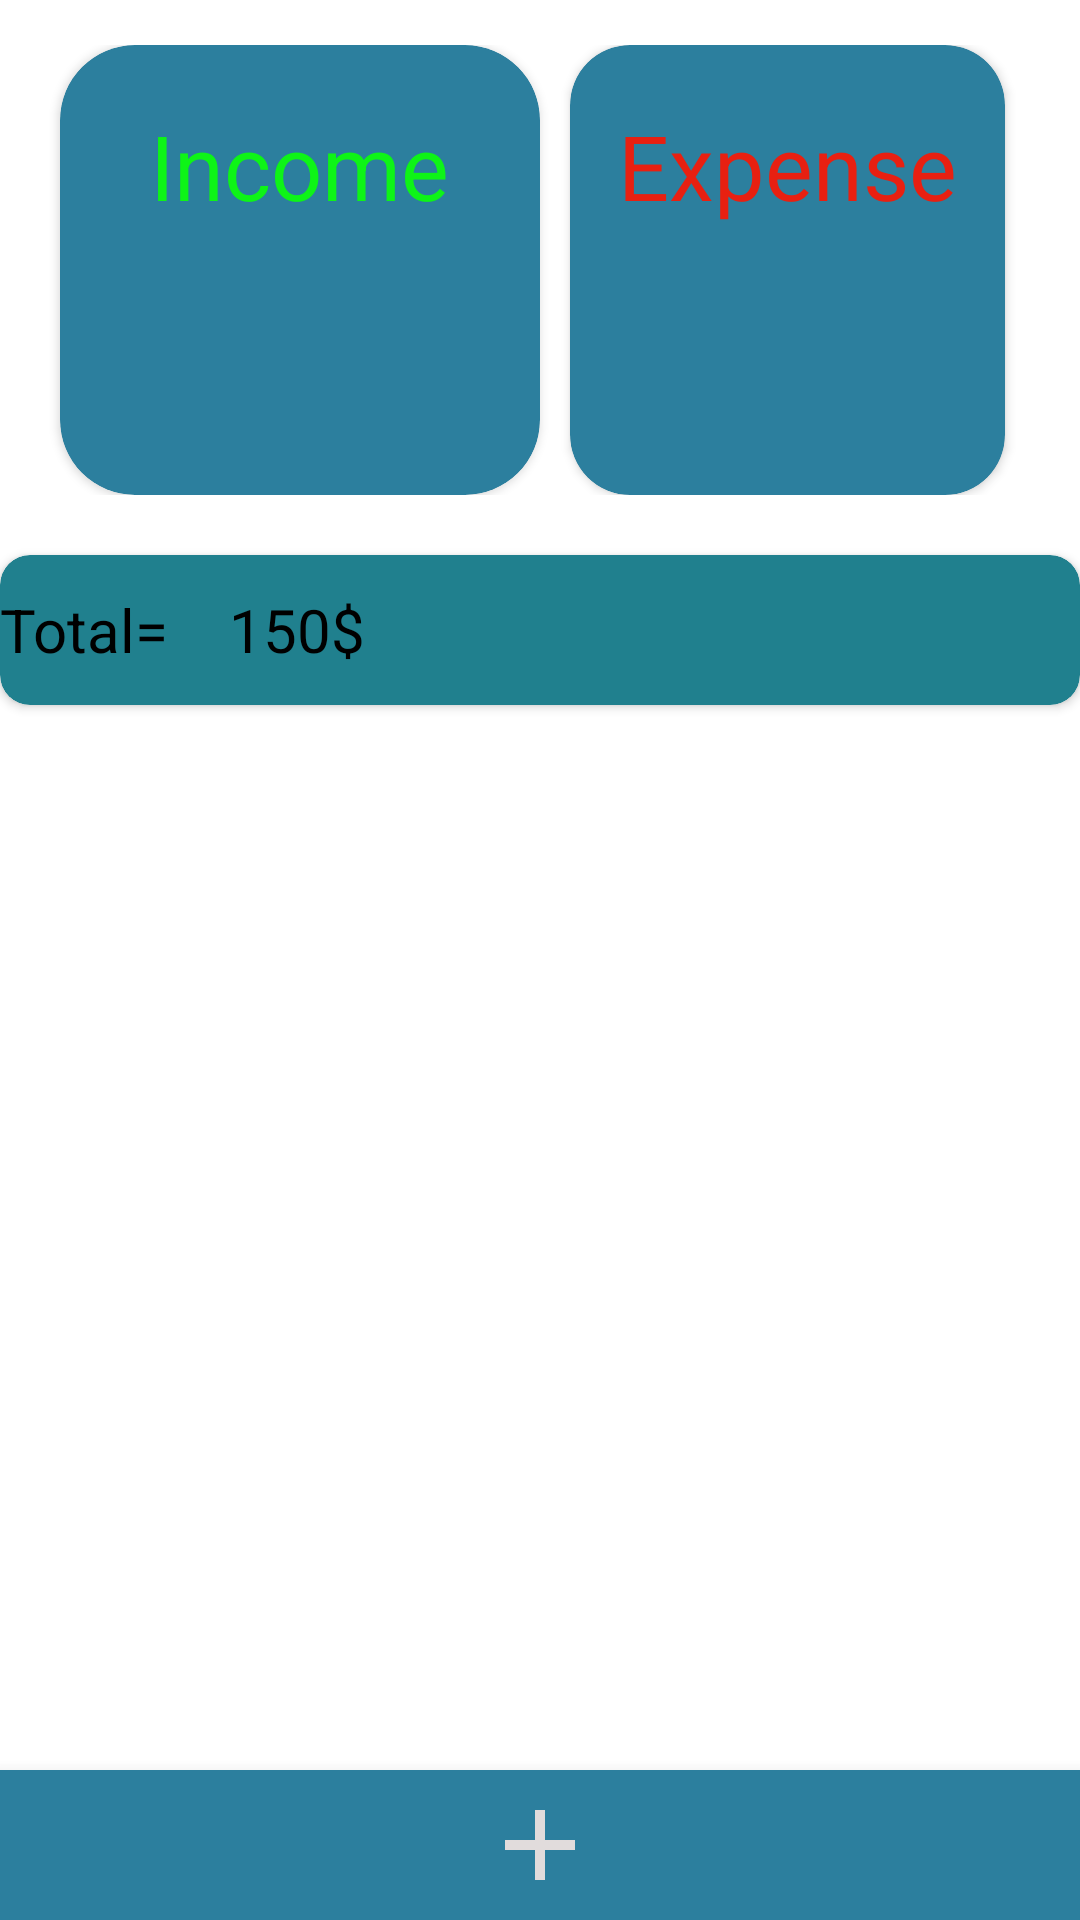

Screen size 1080 x 1920. Icon name, then its box in pixels as region(x1, y1, x2, y2):
add: region(505, 1810, 575, 1880)
